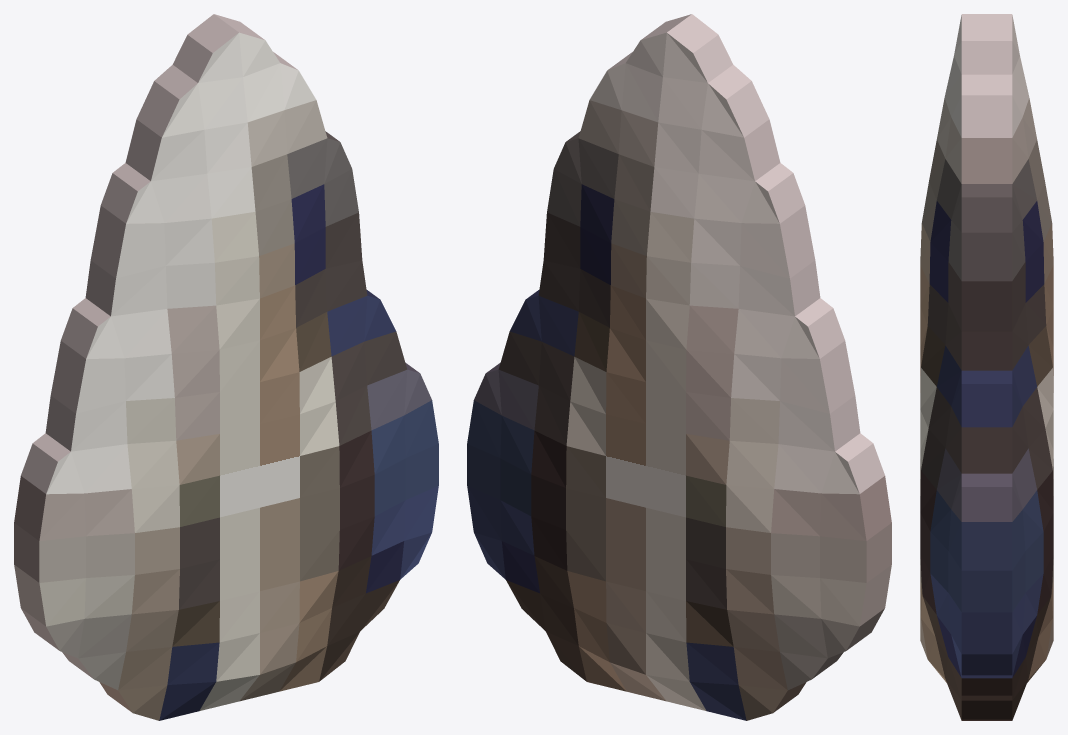
The model's file is pointed_rock.glb.
3 views of the same model, side by side, from view 1: azimuth 30°, elevation 25°; view 2: azimuth 150°, elevation 25°; view 3: azimuth 270°, elevation 25° (orthographic).
Visible parts, largest first — view 1: pointed_rock; view 2: pointed_rock; view 3: pointed_rock.
Part boxes in pixels (box(x1,y1,x2,y2)): pointed_rock: box(14, 14, 438, 720); pointed_rock: box(467, 14, 891, 720); pointed_rock: box(920, 14, 1053, 720).
Size of the model in its own units: 0.625 by 1 by 0.1813.
Materials: 1 (1 with a texture image).
